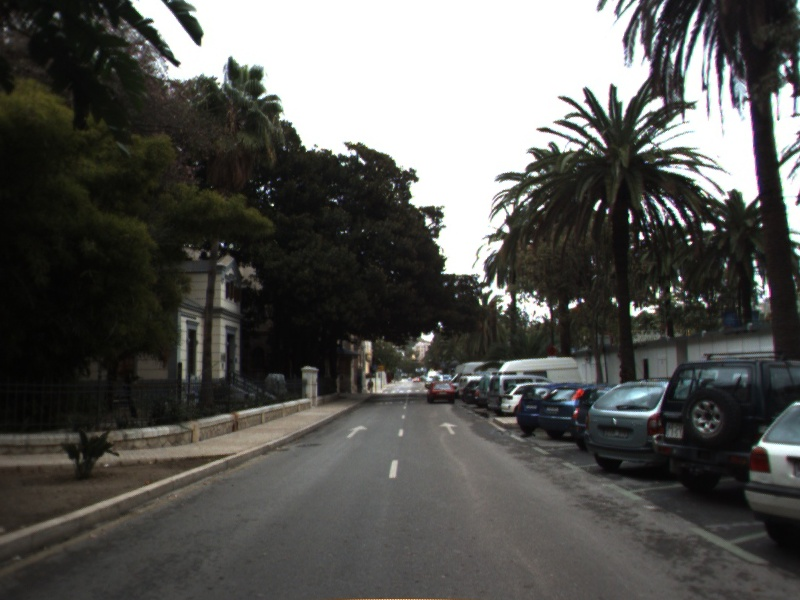STRAIGHT: (344, 423, 370, 441), (437, 420, 461, 436)
